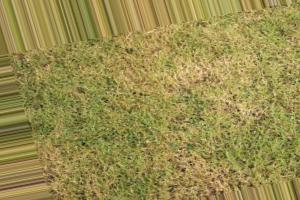patch: (221, 55, 251, 74), (190, 69, 221, 86), (222, 95, 251, 108)
